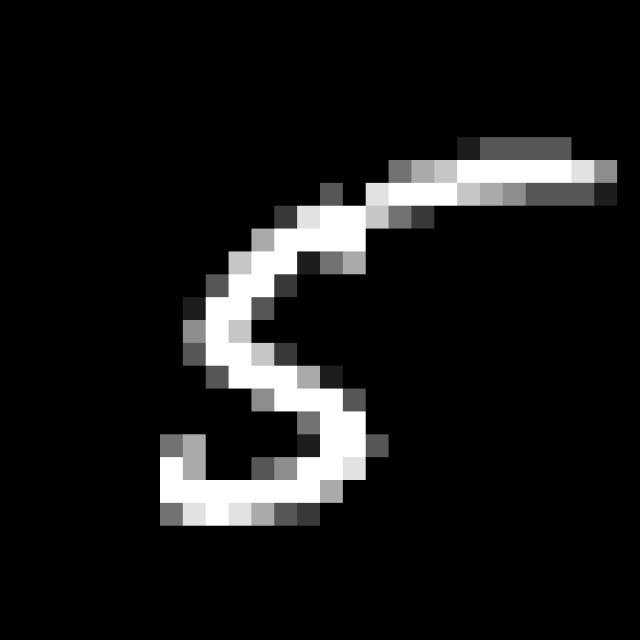five -5-: (140, 130, 622, 526)
